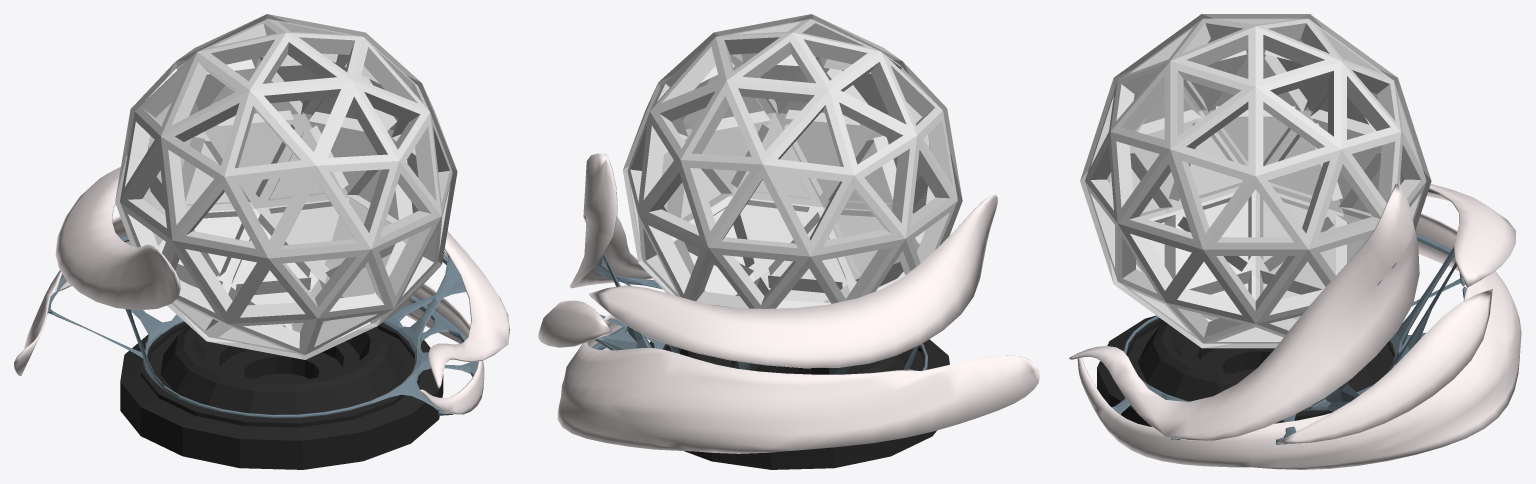
File: lab.glb
3 views of the same model, side by side, from view 1: azimuth 30°, elevation 25°; view 2: azimuth 150°, elevation 25°; view 3: azimuth 270°, elevation 25° (orthographic).
Parts seen in each view (by area): view 1: Icosphere, Cylinder, Icosphere.001, Plane.002, Plane.001; view 2: Plane.002, Icosphere, Icosphere.001, Cylinder, Plane.001; view 3: Icosphere, Plane.002, Icosphere.001, Cylinder, Plane.001.
Boxes of the visible parts, <box> form: Icosphere: <box>120,19,452,354</box>; Cylinder: <box>120,322,443,469</box>; Icosphere.001: <box>115,14,457,359</box>; Plane.002: <box>14,167,509,414</box>; Plane.001: <box>47,235,478,418</box>; Plane.002: <box>538,153,1039,453</box>; Icosphere: <box>627,19,957,308</box>; Icosphere.001: <box>623,14,962,302</box>; Cylinder: <box>649,339,949,469</box>; Plane.001: <box>584,215,928,374</box>; Icosphere: <box>1085,18,1426,343</box>; Plane.002: <box>1068,183,1521,469</box>; Icosphere.001: <box>1080,14,1431,348</box>; Cylinder: <box>1097,315,1394,426</box>; Plane.001: <box>1111,189,1466,444</box>.
Bounding box in the file's own units: 31.02 × 23.69 × 25.87.
